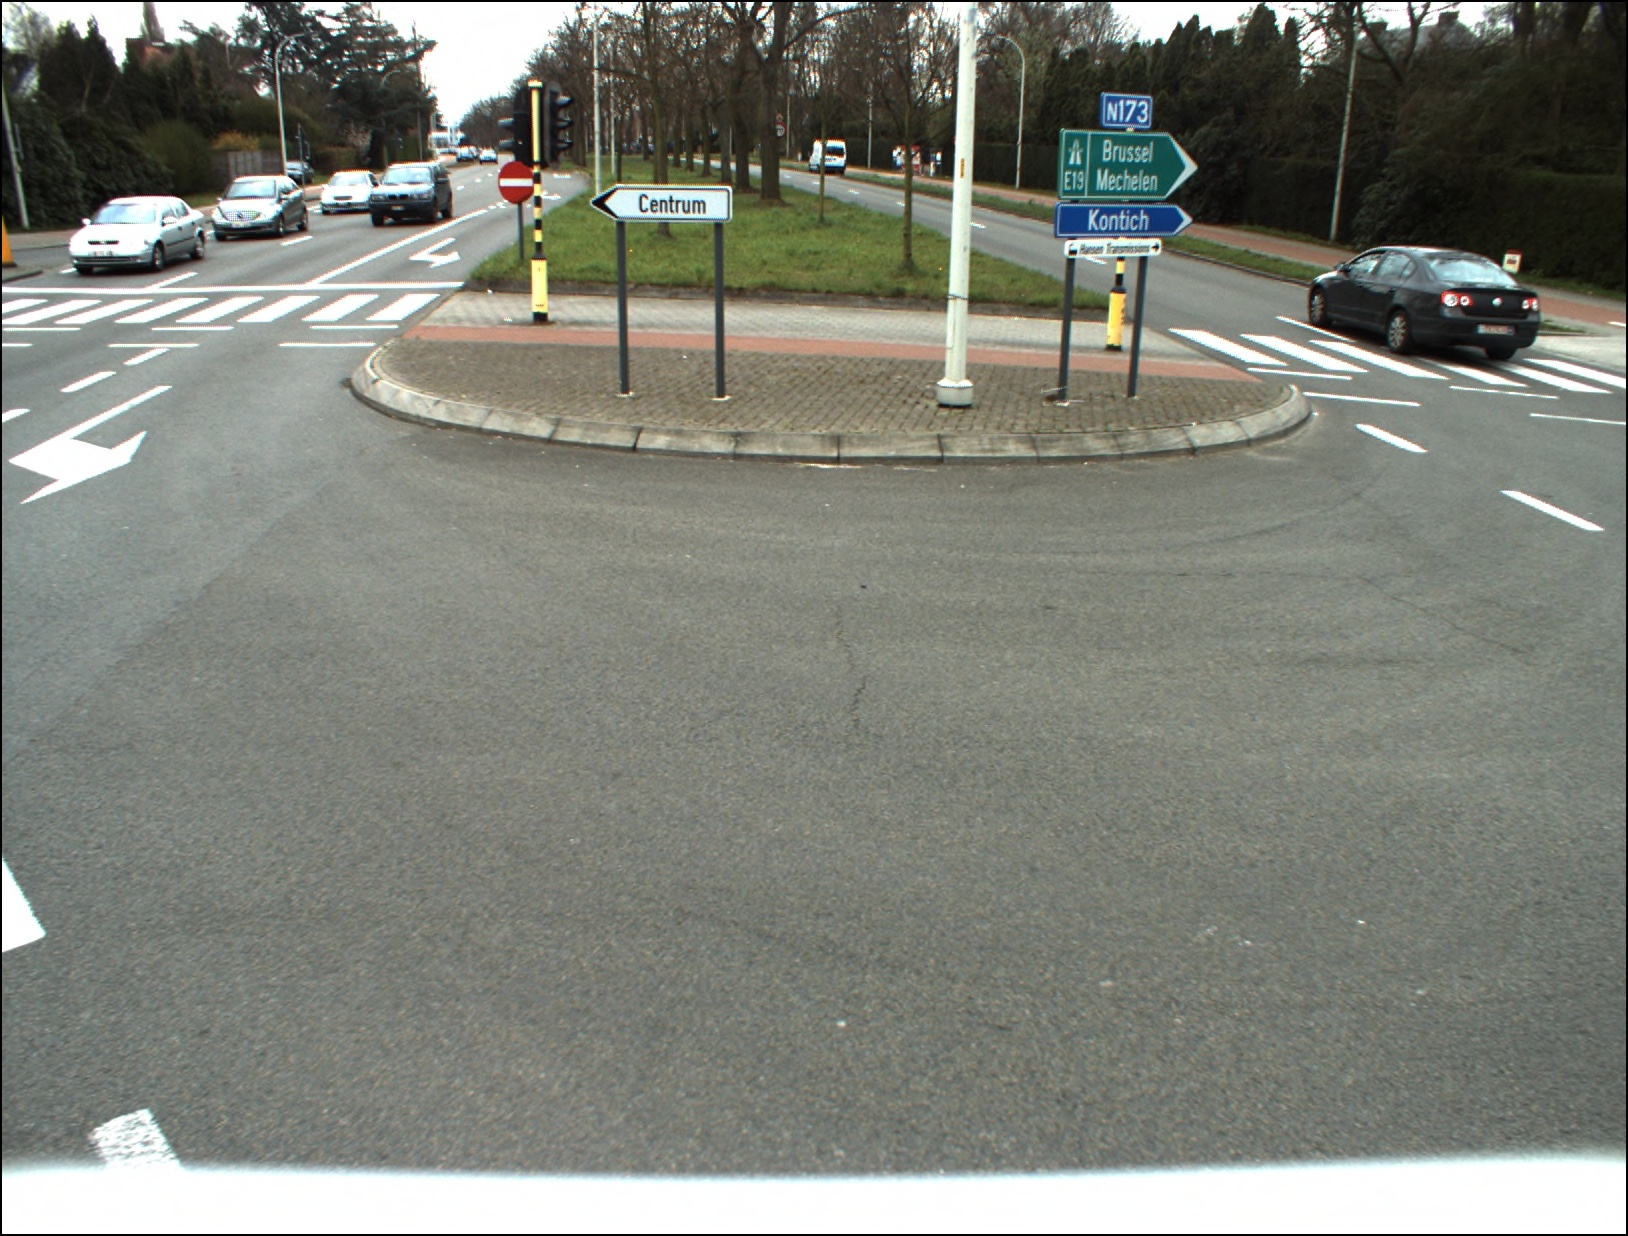noentry: (496, 162, 531, 203)
